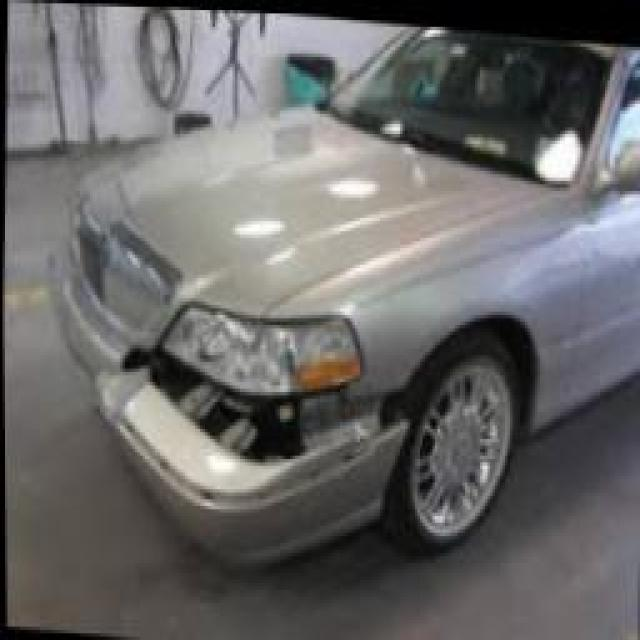Bumper: (102, 389, 402, 578)
